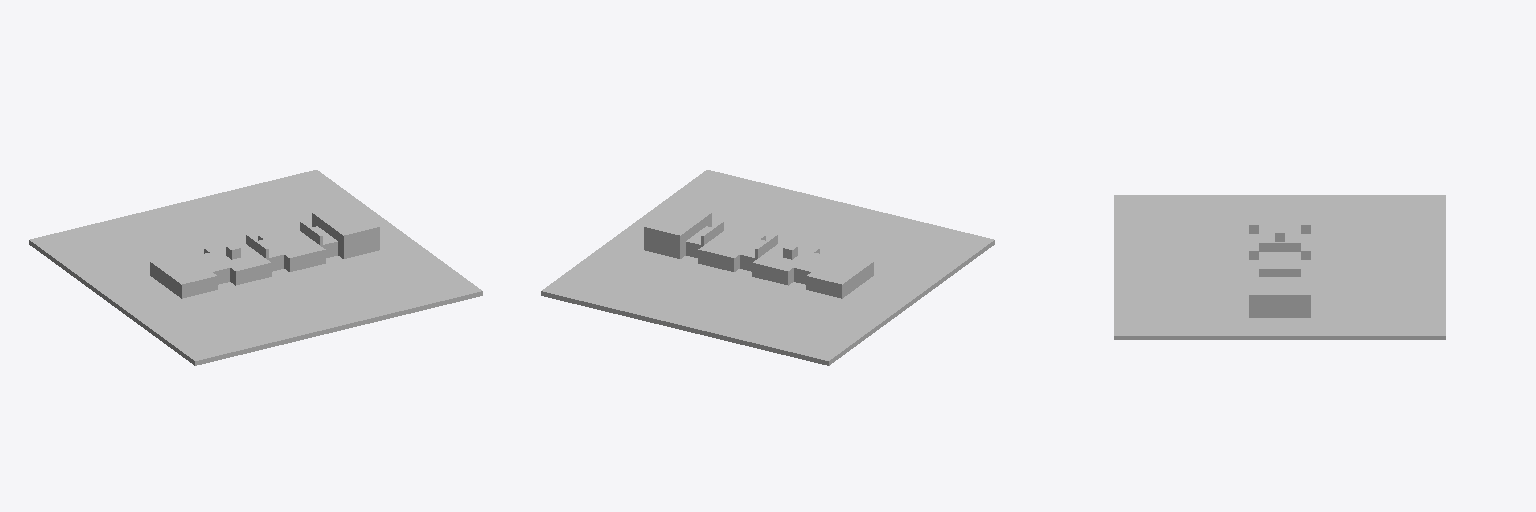
File: map.obj
The picture shows the model from 3 angles: view 1: azimuth 30°, elevation 25°; view 2: azimuth 150°, elevation 25°; view 3: azimuth 270°, elevation 25°; orthographic projection.
Visible parts, largest first — view 1: mesh_10544, mesh_10497, mesh_10586, mesh_10502, mesh_10500, mesh_10573, mesh_8; view 2: mesh_10544, mesh_10497, mesh_10586, mesh_10502, mesh_10500, mesh_10573, mesh_8; view 3: mesh_10544, mesh_10586, mesh_10497, mesh_10573, mesh_10500, mesh_10502.
Boxes of the visible parts, box(x1,y1,x2,y2) form: mesh_10544: box(29, 170, 482, 365); mesh_10497: box(150, 253, 217, 298); mesh_10586: box(312, 204, 379, 244); mesh_10502: box(258, 227, 325, 271); mesh_10500: box(204, 240, 271, 285); mesh_10573: box(312, 222, 379, 258); mesh_8: box(193, 253, 229, 284); mesh_10544: box(541, 170, 994, 365); mesh_10497: box(806, 253, 873, 298); mesh_10586: box(644, 204, 711, 244); mesh_10502: box(698, 227, 765, 271); mesh_10500: box(752, 240, 819, 285); mesh_10573: box(644, 222, 711, 258); mesh_8: box(794, 253, 830, 284); mesh_10544: box(1114, 195, 1445, 339); mesh_10586: box(1249, 277, 1310, 303); mesh_10497: box(1249, 207, 1310, 233); mesh_10573: box(1249, 304, 1310, 317); mesh_10500: box(1249, 234, 1310, 259); mesh_10502: box(1249, 260, 1310, 276).
Bounding box in the file's own units: 4096 × 384 × 4096.